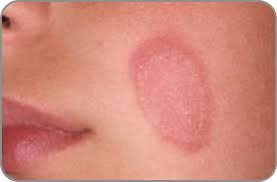Ringworm: (127, 23, 223, 163)
